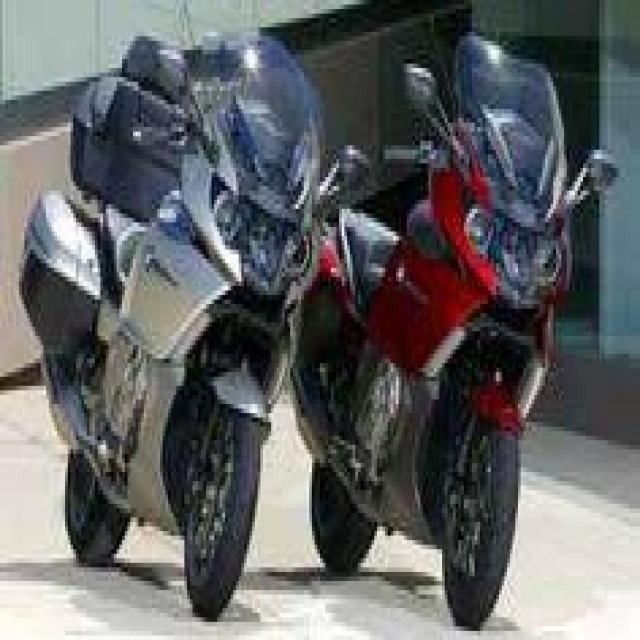Bike: (20, 29, 368, 623), (291, 31, 620, 630)
